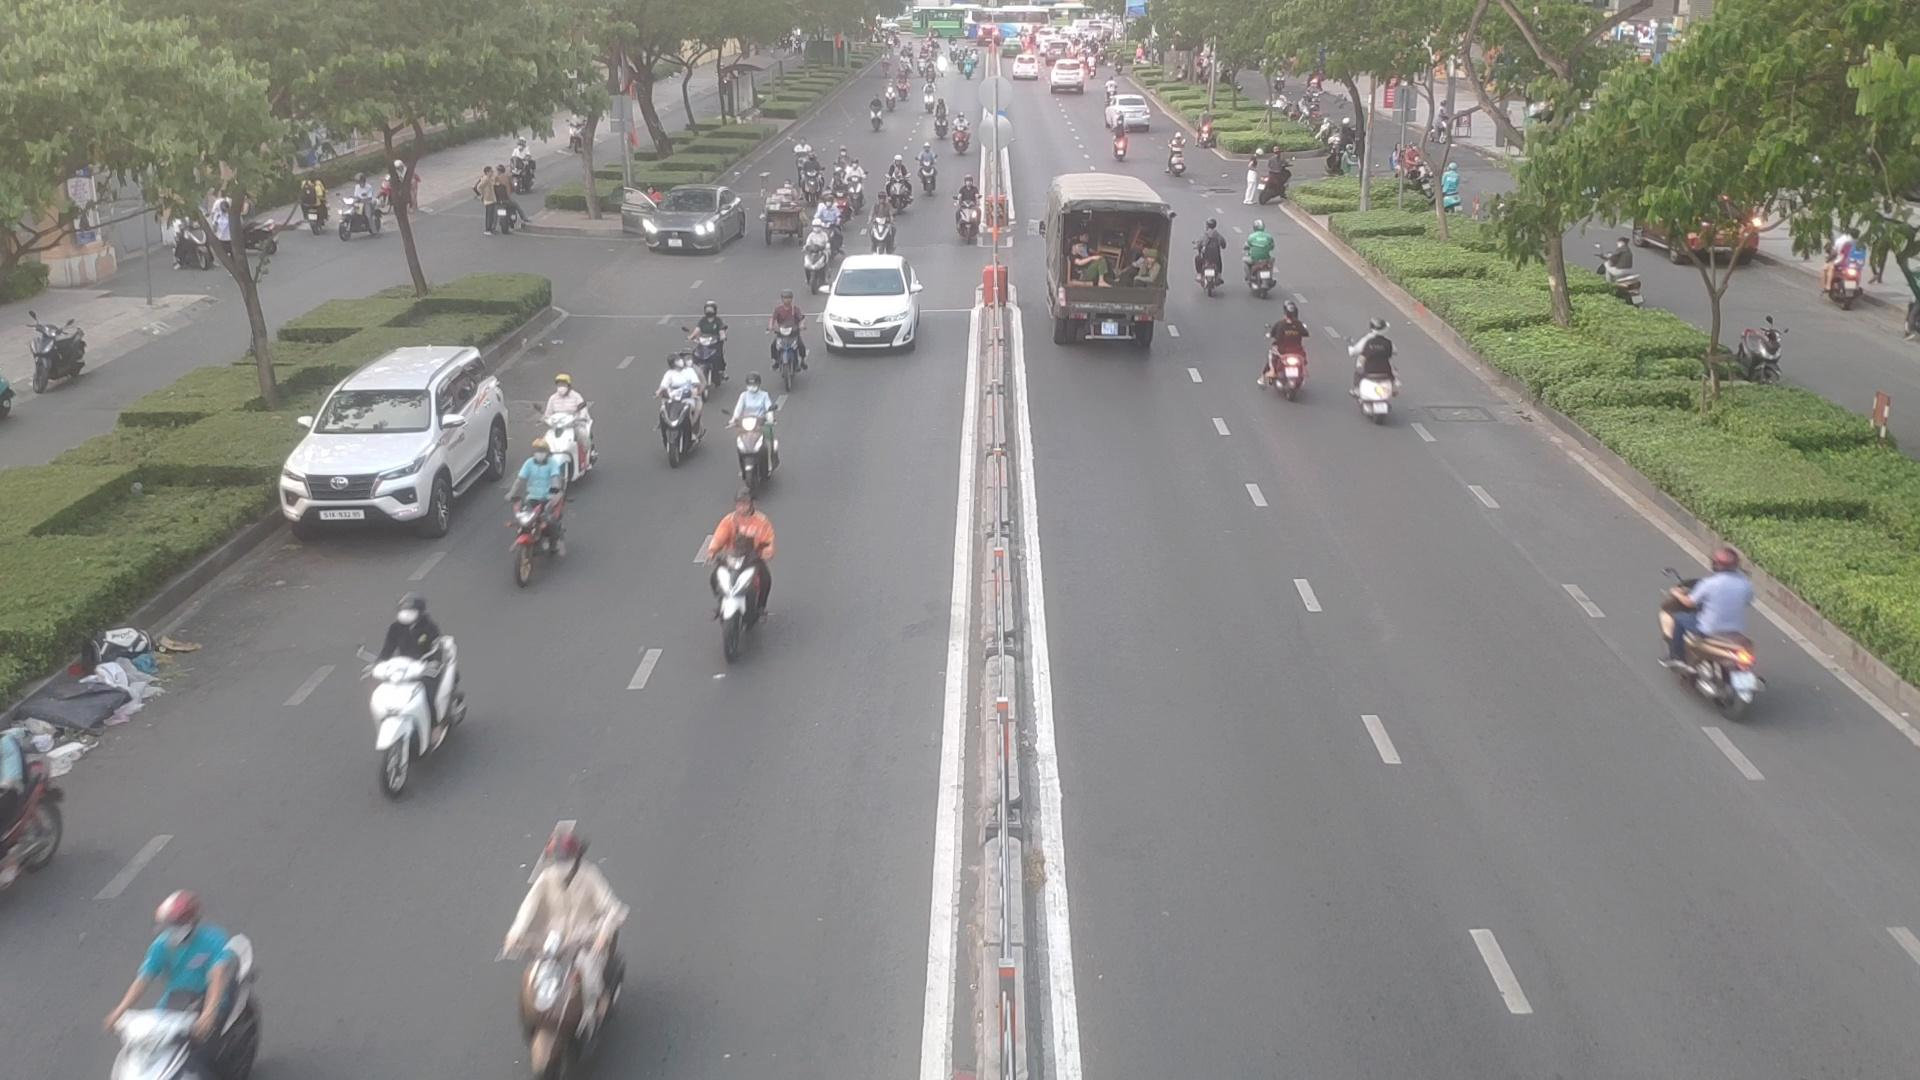car: (287, 343, 520, 530), (1034, 165, 1174, 352), (819, 260, 927, 357), (618, 191, 750, 260)
motorbike: (500, 822, 640, 1073), (94, 895, 266, 1080), (356, 601, 475, 791), (1648, 556, 1771, 720), (498, 436, 585, 589), (690, 506, 773, 658), (0, 741, 70, 910), (1341, 316, 1402, 419), (649, 357, 705, 458), (721, 378, 781, 469), (767, 299, 822, 389), (1259, 311, 1315, 396), (1237, 222, 1288, 302), (541, 373, 603, 436), (1182, 210, 1224, 295), (686, 299, 735, 371), (953, 185, 992, 247), (762, 187, 800, 248), (802, 228, 840, 284), (880, 170, 911, 214), (800, 164, 829, 204), (919, 153, 945, 195), (1102, 125, 1133, 161)
